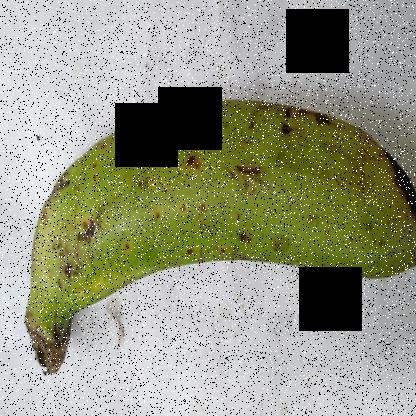unripe: (0, 82, 415, 379)
